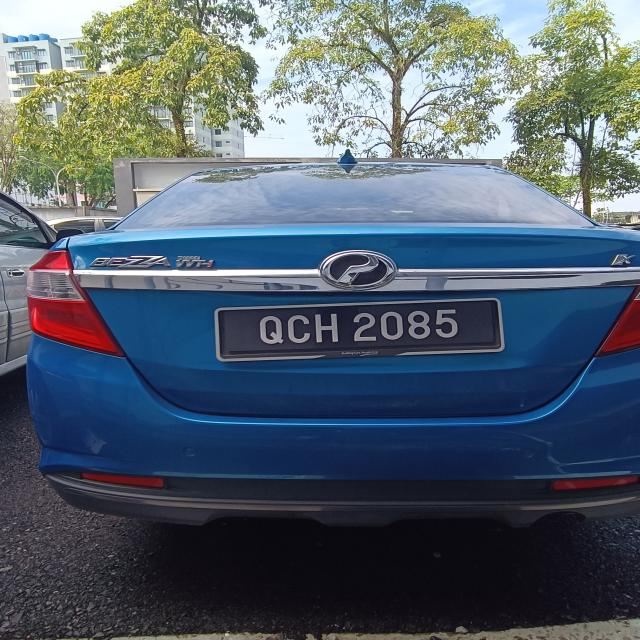PeroduaBezza: (24, 157, 639, 530)
